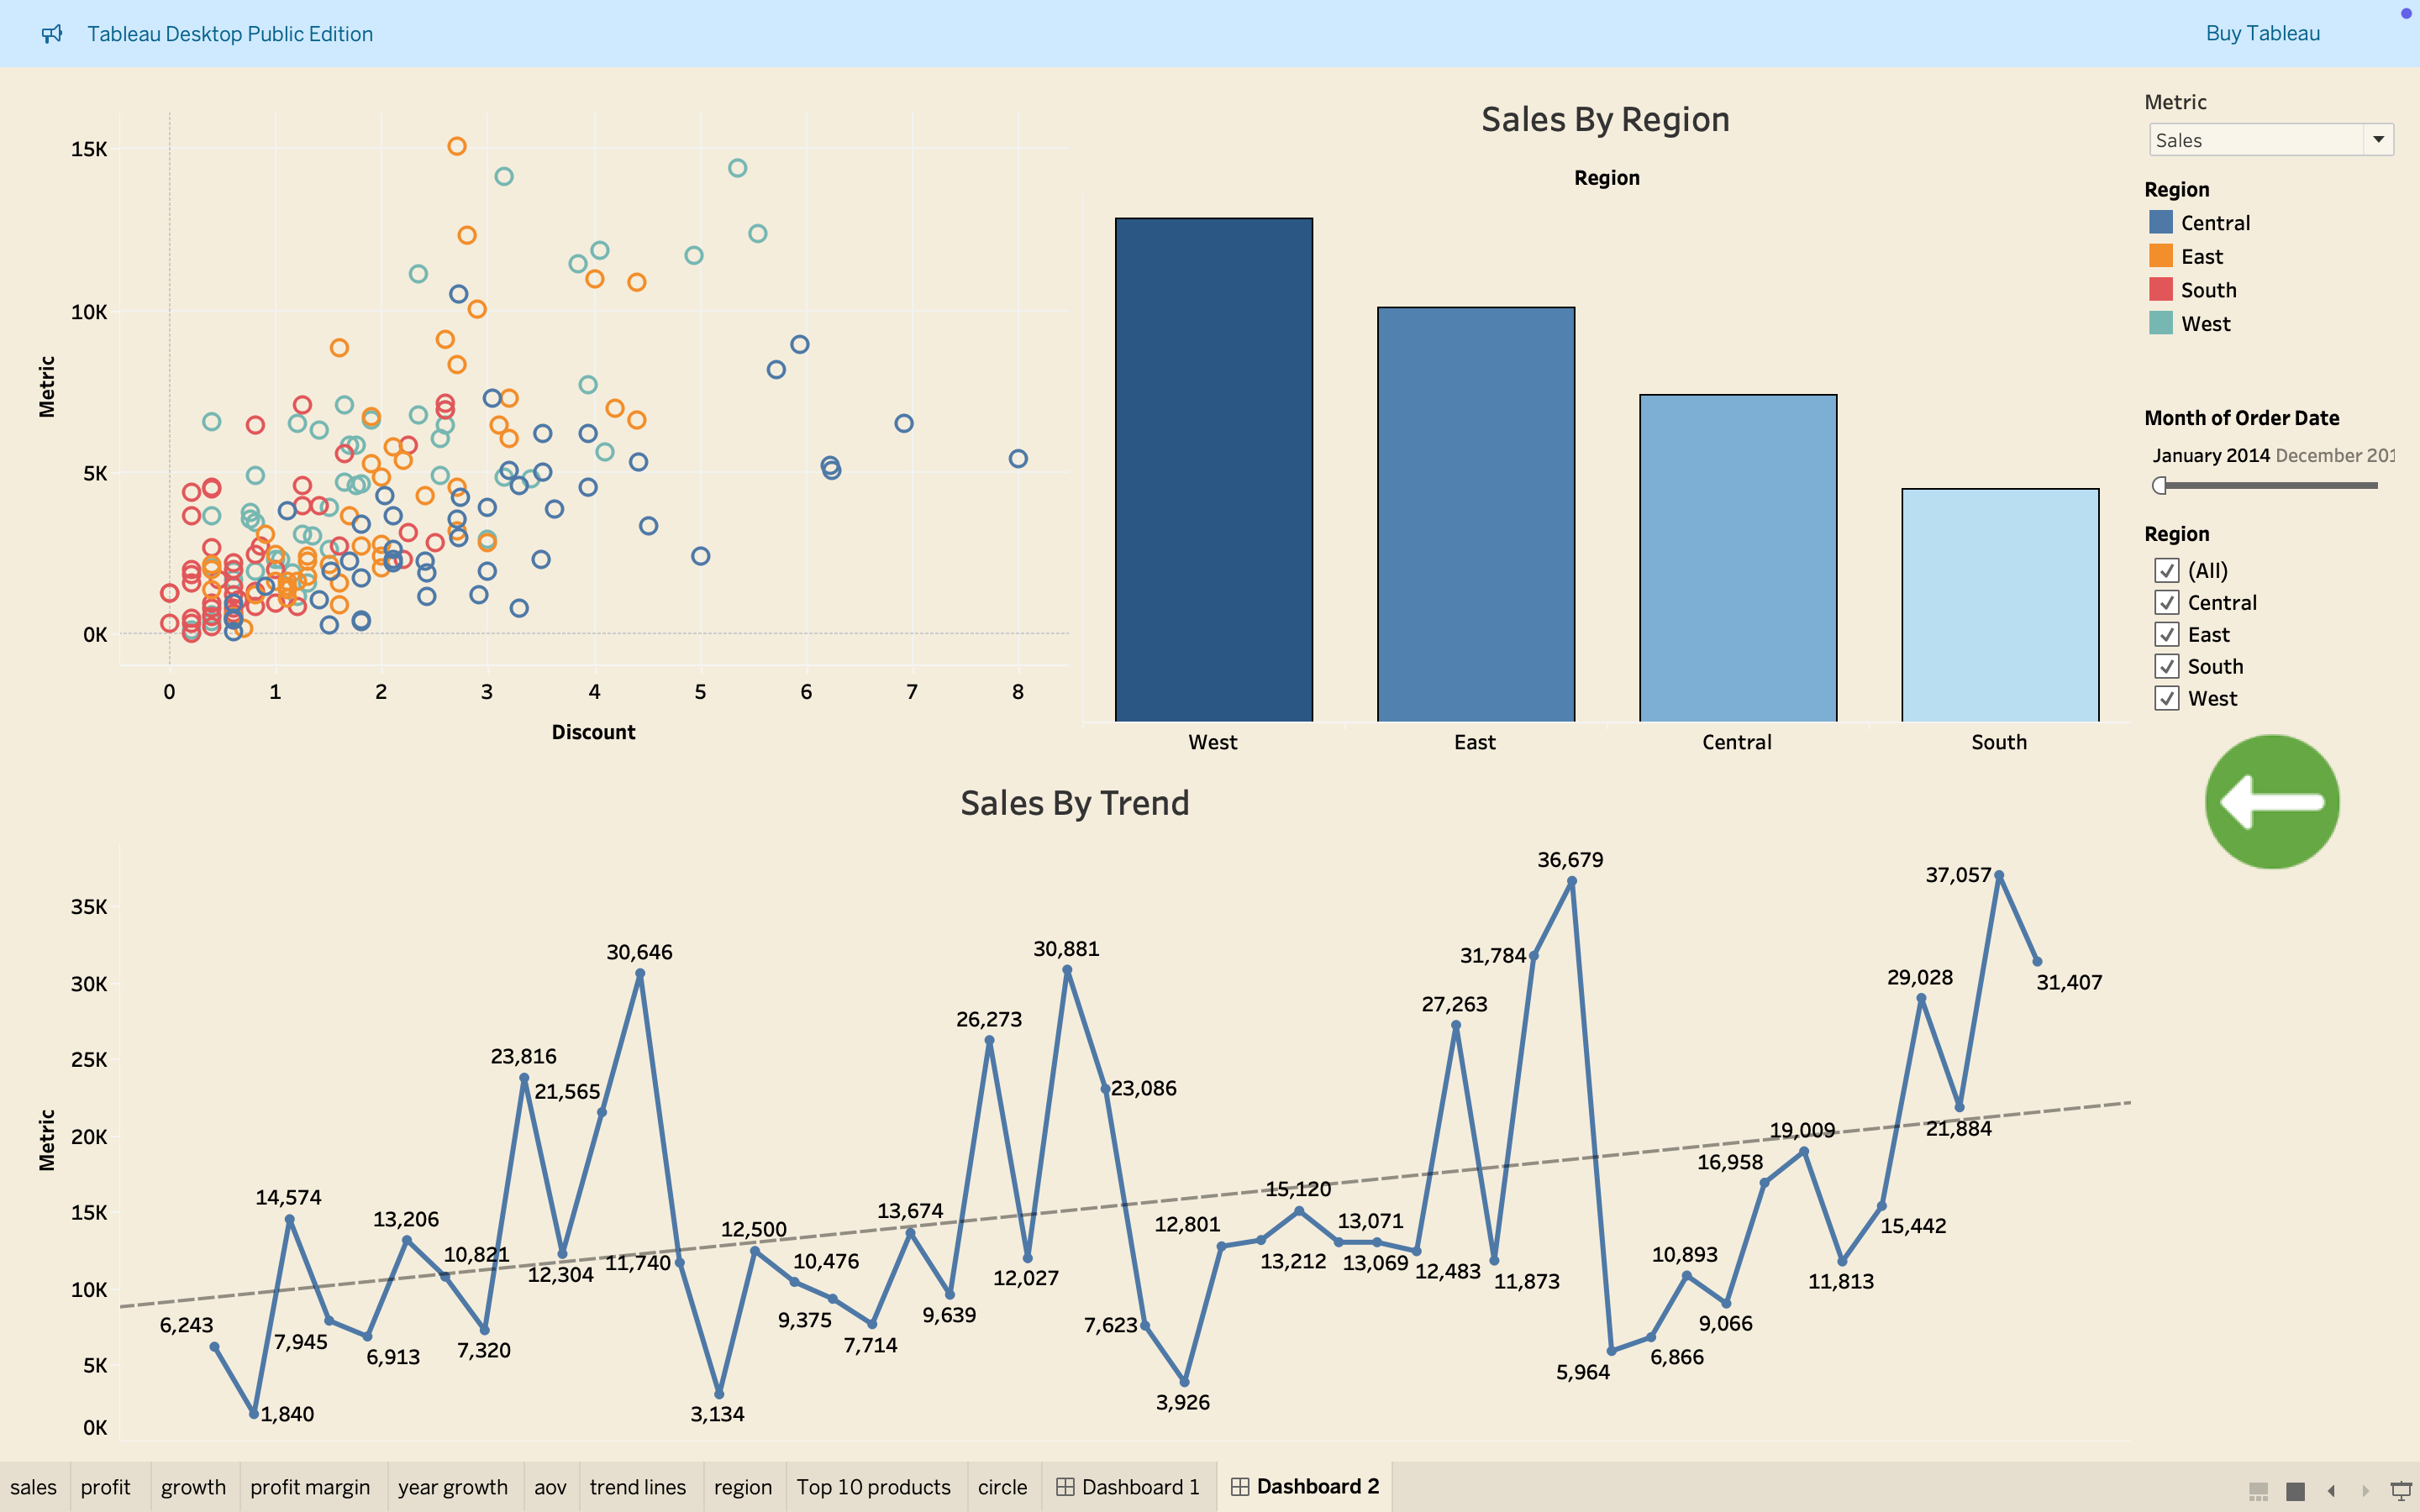

This screenshot's page, from the dashboard's own definition file:
{"tool":"tableau","page":{"name":"Dashboard 2","canvas":[1000,1000],"units":"permille","ordinal":1},"visuals":[{"type":"worksheet","title":"circle","mark":"Automatic","rows":["Calculation_1850135079084814344"],"cols":["Discount"],"box":[5.3,10,441.9,490]},{"type":"worksheet","title":"region","mark":"Automatic","rows":["Calculation_1850135079084814344"],"cols":["Region"],"box":[447.2,10,442,490]},{"type":"parameter","param":"[Parameters].[Parameter 1]","box":[889.2,10,105.5,69.9]},{"type":"legend","title":"circle","param":"[federated.09pl5a81gb49yt11yrnxc1l9p0f7].[none:Region:nk]","box":[889.2,79.9,105.5,169.8]},{"type":"filter","title":"trend lines","param":"[federated.09pl5a81gb49yt11yrnxc1l9p0f7].[tmn:Order Date:qk]","box":[889.2,249.7,105.5,91.1]},{"type":"filter","title":"region","param":"[federated.09pl5a81gb49yt11yrnxc1l9p0f7].[none:Region:nk]","box":[889.2,340.8,105.5,188.5]},{"type":"worksheet","title":"trend lines","mark":"Automatic","rows":["Calculation_1850135079084814344"],"cols":["Order Date"],"box":[5.3,500,883.9,490]},{"type":"dashboard-object","box":[889.2,529.4,105.5,113.6]}]}

Visuals, with their boxes on the dashboard's canvas, which has no fixed pixel size, in thousandths of its width and height (x1, y1, x2, y2). These are canvas units, not pixel positions in the 2420x1512 screenshot, which may show the page scaled, cropped or inside an application window:
"circle" worksheet: {"left": 5, "top": 10, "right": 447, "bottom": 500}
"region" worksheet: {"left": 447, "top": 10, "right": 889, "bottom": 500}
parameter: {"left": 889, "top": 10, "right": 995, "bottom": 80}
"circle" legend: {"left": 889, "top": 80, "right": 995, "bottom": 250}
"trend lines" filter: {"left": 889, "top": 250, "right": 995, "bottom": 341}
"region" filter: {"left": 889, "top": 341, "right": 995, "bottom": 529}
"trend lines" worksheet: {"left": 5, "top": 500, "right": 889, "bottom": 990}
dashboard-object: {"left": 889, "top": 529, "right": 995, "bottom": 643}
